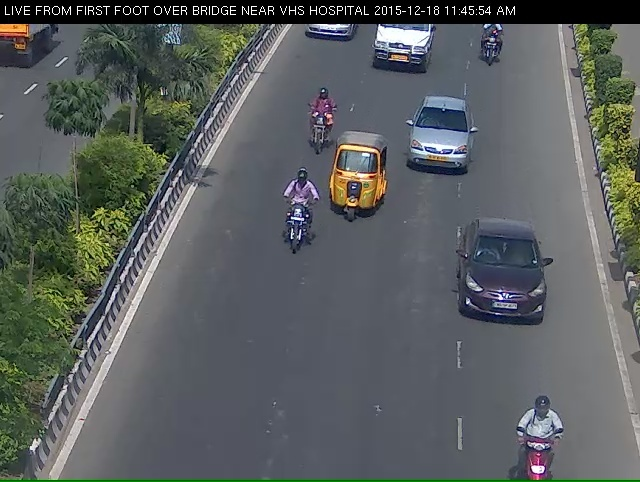Car: (450, 222, 565, 353), (399, 104, 473, 191), (330, 141, 384, 245), (367, 18, 440, 87)
Person: (274, 190, 307, 277), (291, 98, 326, 167), (477, 22, 513, 80)
